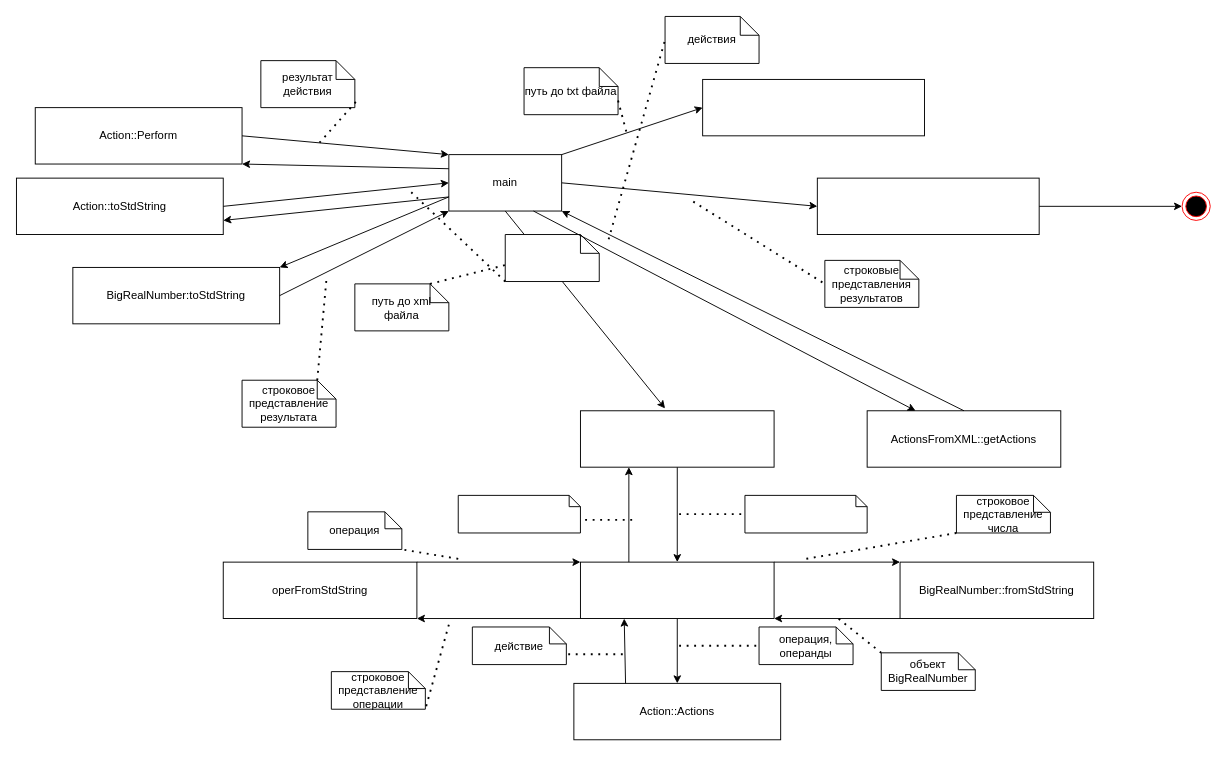
Some shapes in this 1227 by 757 pixel diagram are drawn without their labels. The centre of each missing label's shape, as x and y in pixels:
ActionsFromXML::ActionsFromXML: [677,438]
ActionsFromXML::loadActions: [677,590]
stdStringToTxt::stdStringToTxt: [813,107]
stdStringToTxt::write: [927,206]
действии: [518,513]
путь до файла: [805,513]
строковое представление действия: [551,258]
